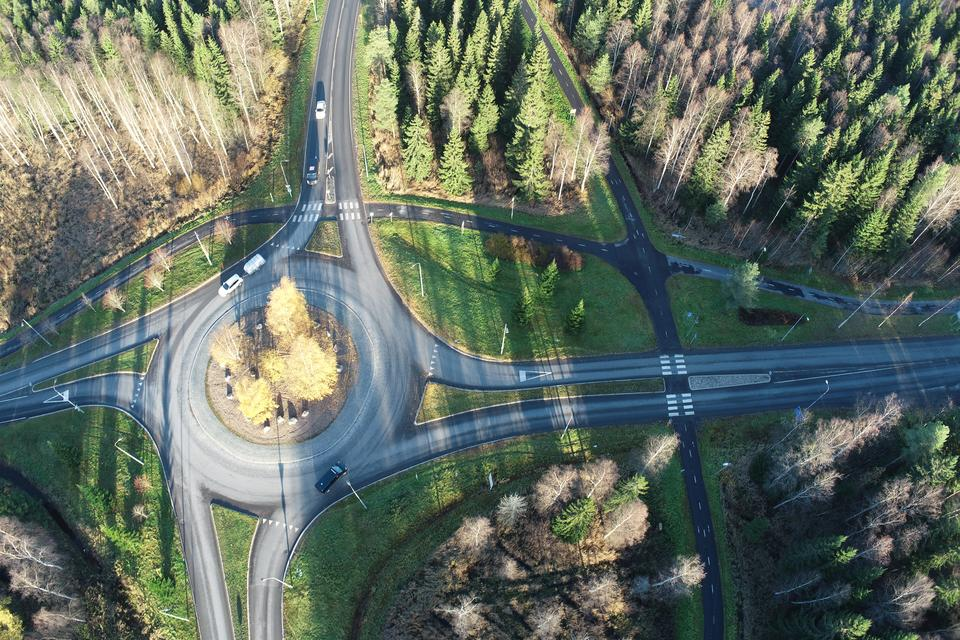intersection: (646, 335, 715, 448), (265, 184, 392, 233)
roundabout: (103, 238, 509, 588)
